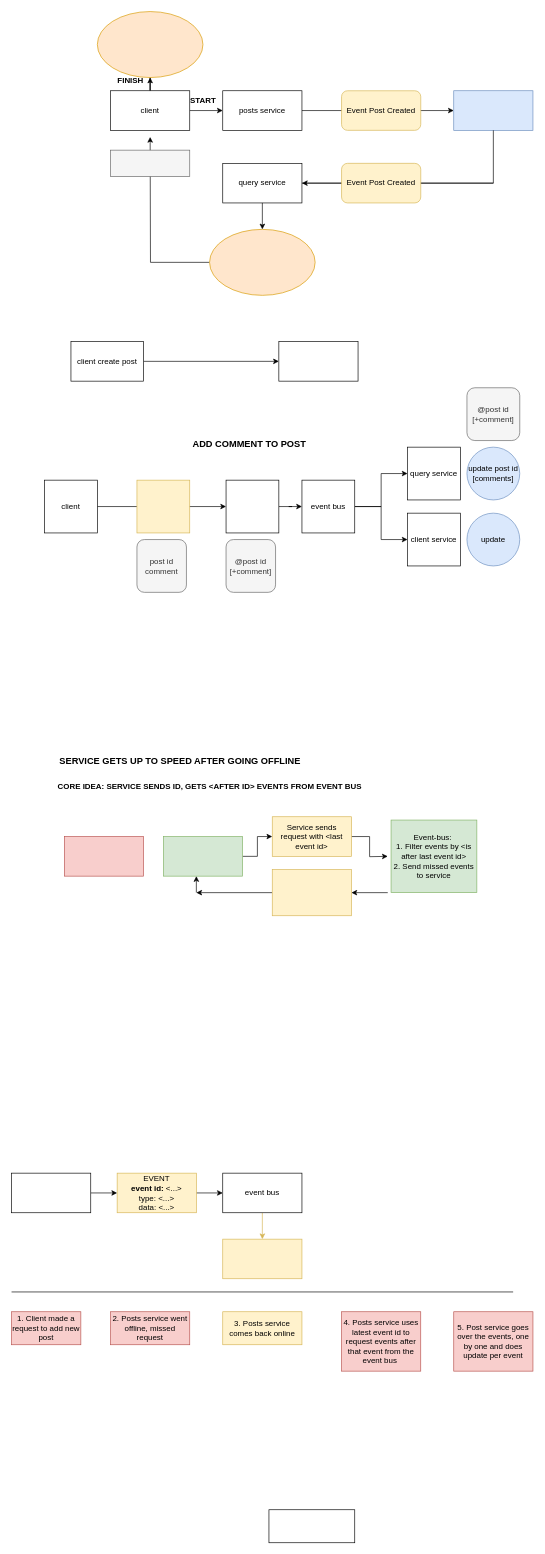
Image size: 545x1554. Some labels were removed from this diagram. The box of each missing label's shape, as (x1, y1, x2, y2) in pixels:
comments service: (225, 479, 279, 533)
events bus: (453, 90, 533, 130)
Events missed by the service: (272, 869, 351, 916)
posts: respond with creating post: (278, 341, 358, 381)
Push to Events Store (FILO queue): (222, 1238, 302, 1279)
request: (136, 479, 190, 533)
service: (11, 1172, 91, 1213)
SERVICE BACK ONLINE: (163, 836, 243, 876)
SERVICE OFFLINE /stores last event: (64, 836, 144, 876)
Updated posts data: (110, 149, 190, 177)
Updated the view with new posts data: (97, 11, 203, 78)
updates efficiency-formatted posts data with Event Post Created data: (209, 229, 315, 295)
